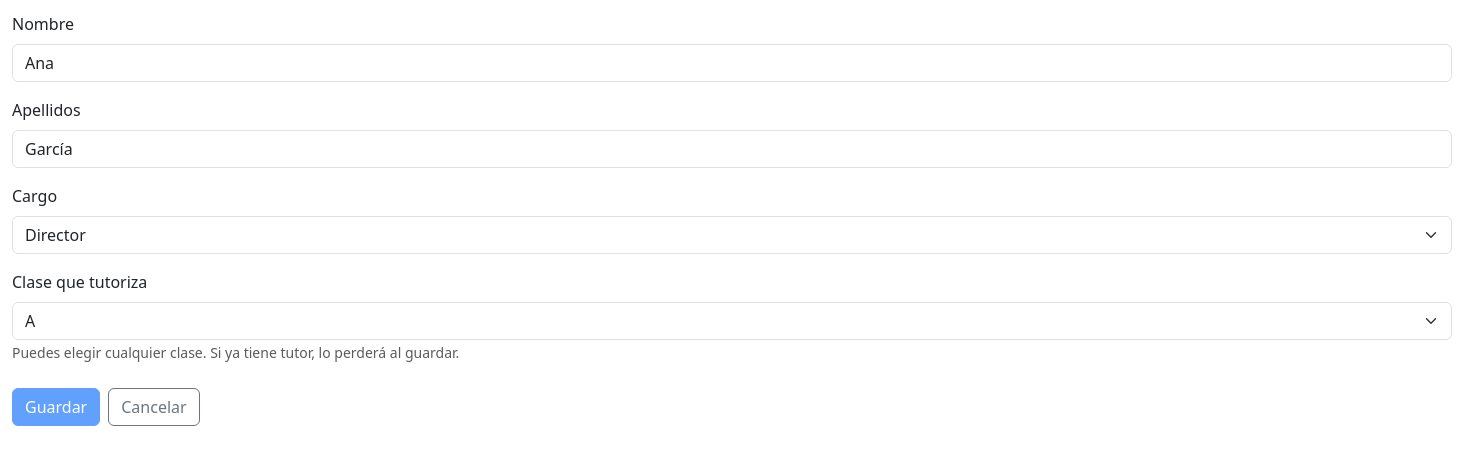
ProfessorForm editing a professor (classMode "any") › marks the fields of a validationError and focuses the first one
The image size is (1464, 468).
Select "B" in the dropdown labelled "Clase que tutoriza" at (732, 321), box 12,302 -> 1452,340
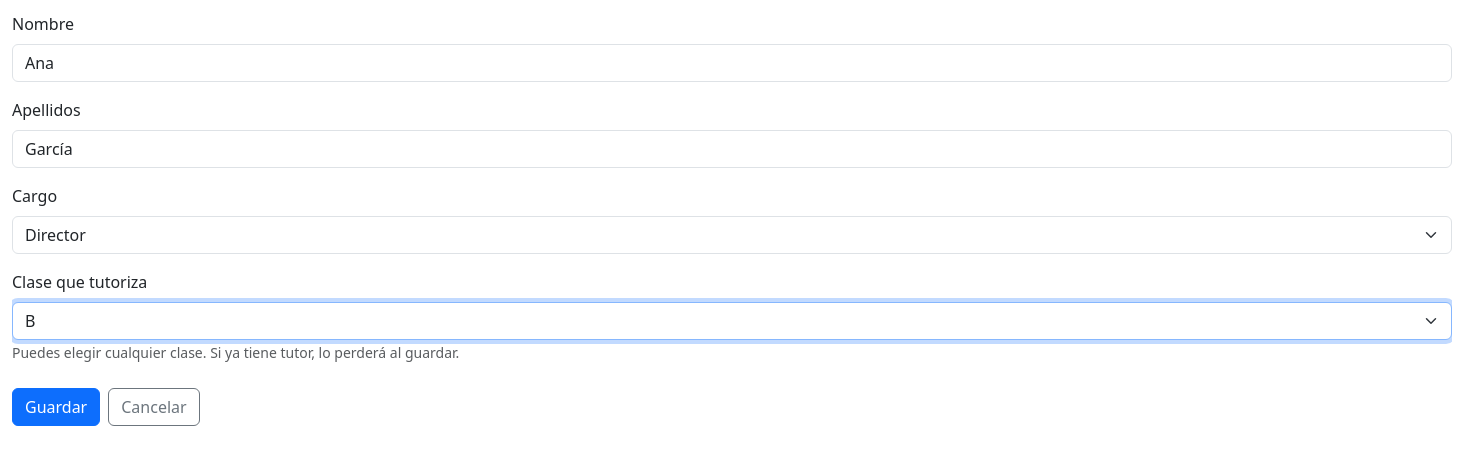
Click the button "Guardar" at (56, 407), box 12,388 -> 100,426
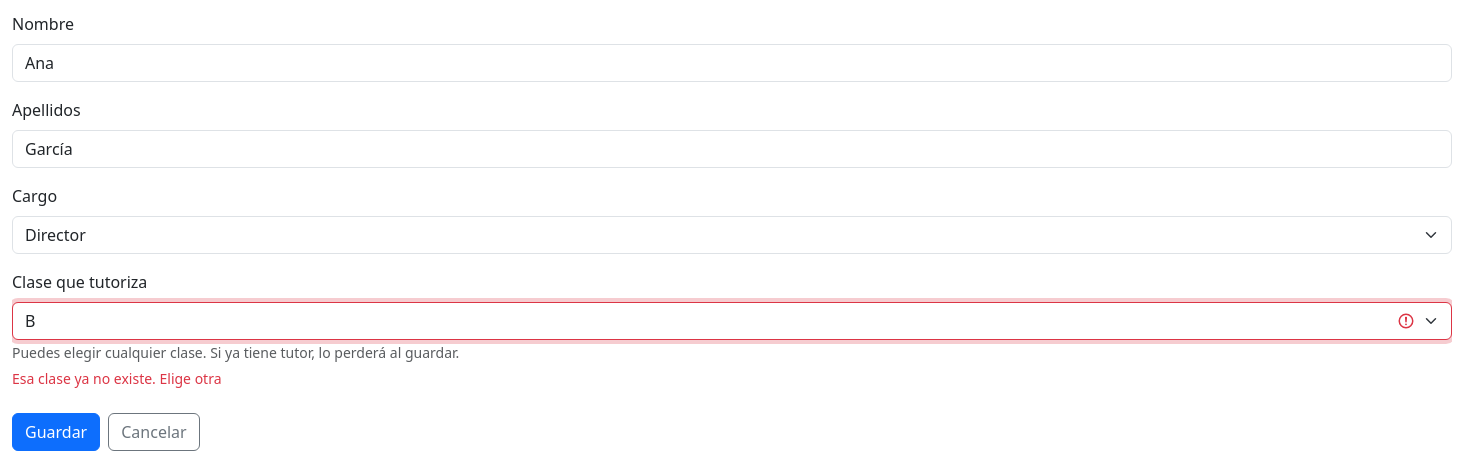
Expected: the text "Esa clase ya no existe. Elige otra" is shown, 12,369 -> 222,388
